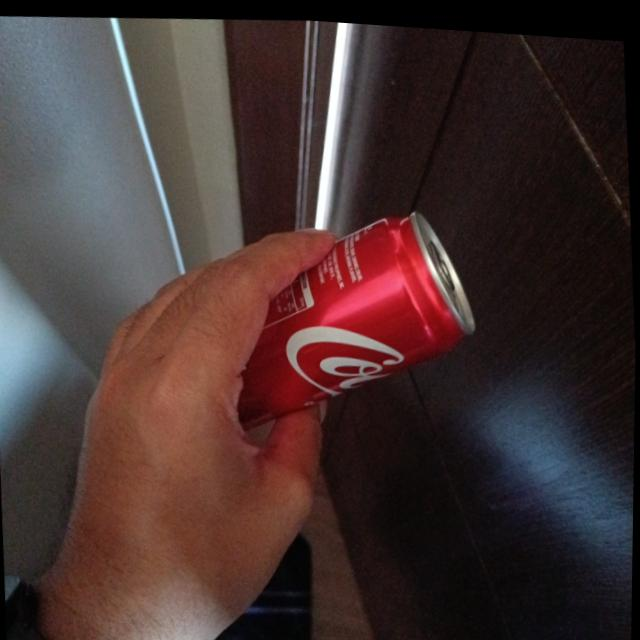coke: (224, 190, 484, 440)
